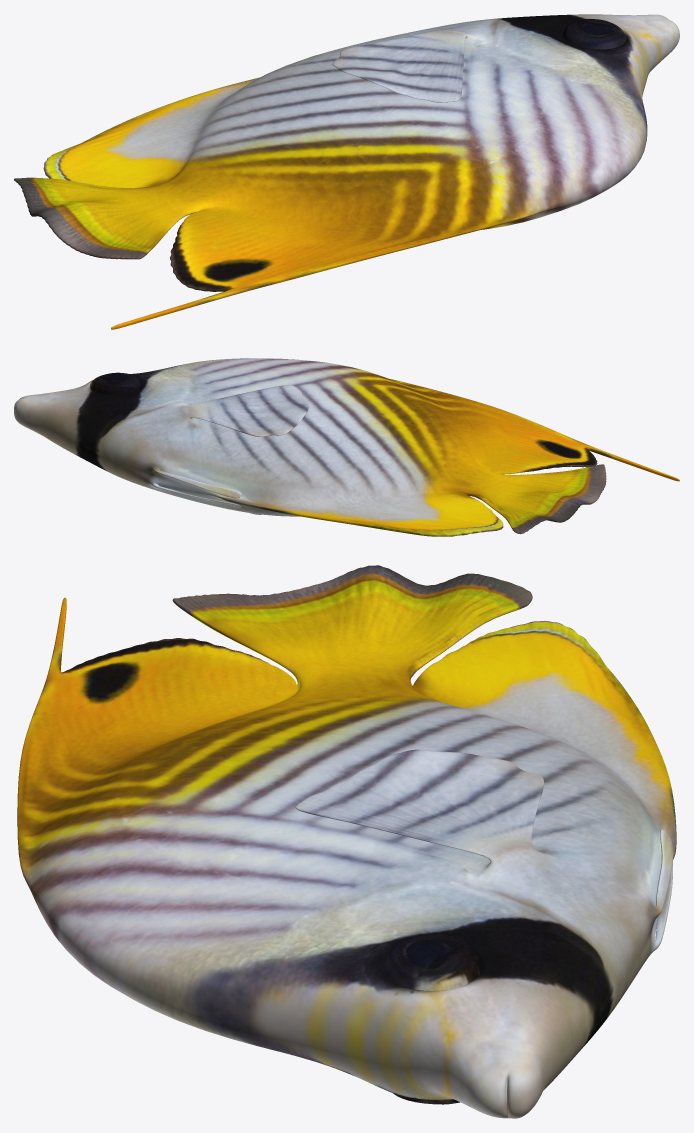
The picture shows the model from 3 angles, top to bottom: view 1: azimuth 30°, elevation 25°; view 2: azimuth 150°, elevation 25°; view 3: azimuth 270°, elevation 25°; orthographic projection. The views are drawn at different scales.
Visible parts, largest first — view 1: 13003_Auriga_Butterflyfish; view 2: 13003_Auriga_Butterflyfish; view 3: 13003_Auriga_Butterflyfish.
Boxes of the visible parts, left/top/right/bottom form: 13003_Auriga_Butterflyfish: left=14, top=14, right=679, bottom=329; 13003_Auriga_Butterflyfish: left=14, top=358, right=679, bottom=536; 13003_Auriga_Butterflyfish: left=17, top=565, right=676, bottom=1118.
Bounding box in the file's own units: 24.49 × 3.67 × 12.61.
Materials: 1 (1 with a texture image).
